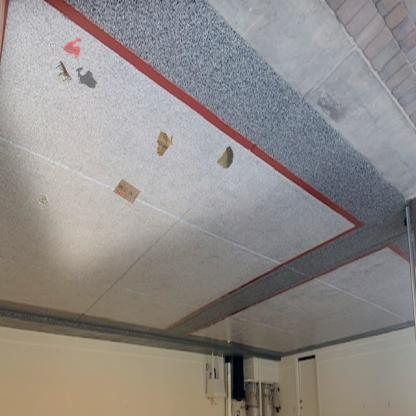dirty: (47, 60, 75, 90), (112, 177, 141, 205), (154, 129, 176, 158), (215, 144, 235, 170), (35, 192, 53, 211)
liquid: (74, 66, 98, 90), (62, 36, 82, 60)
